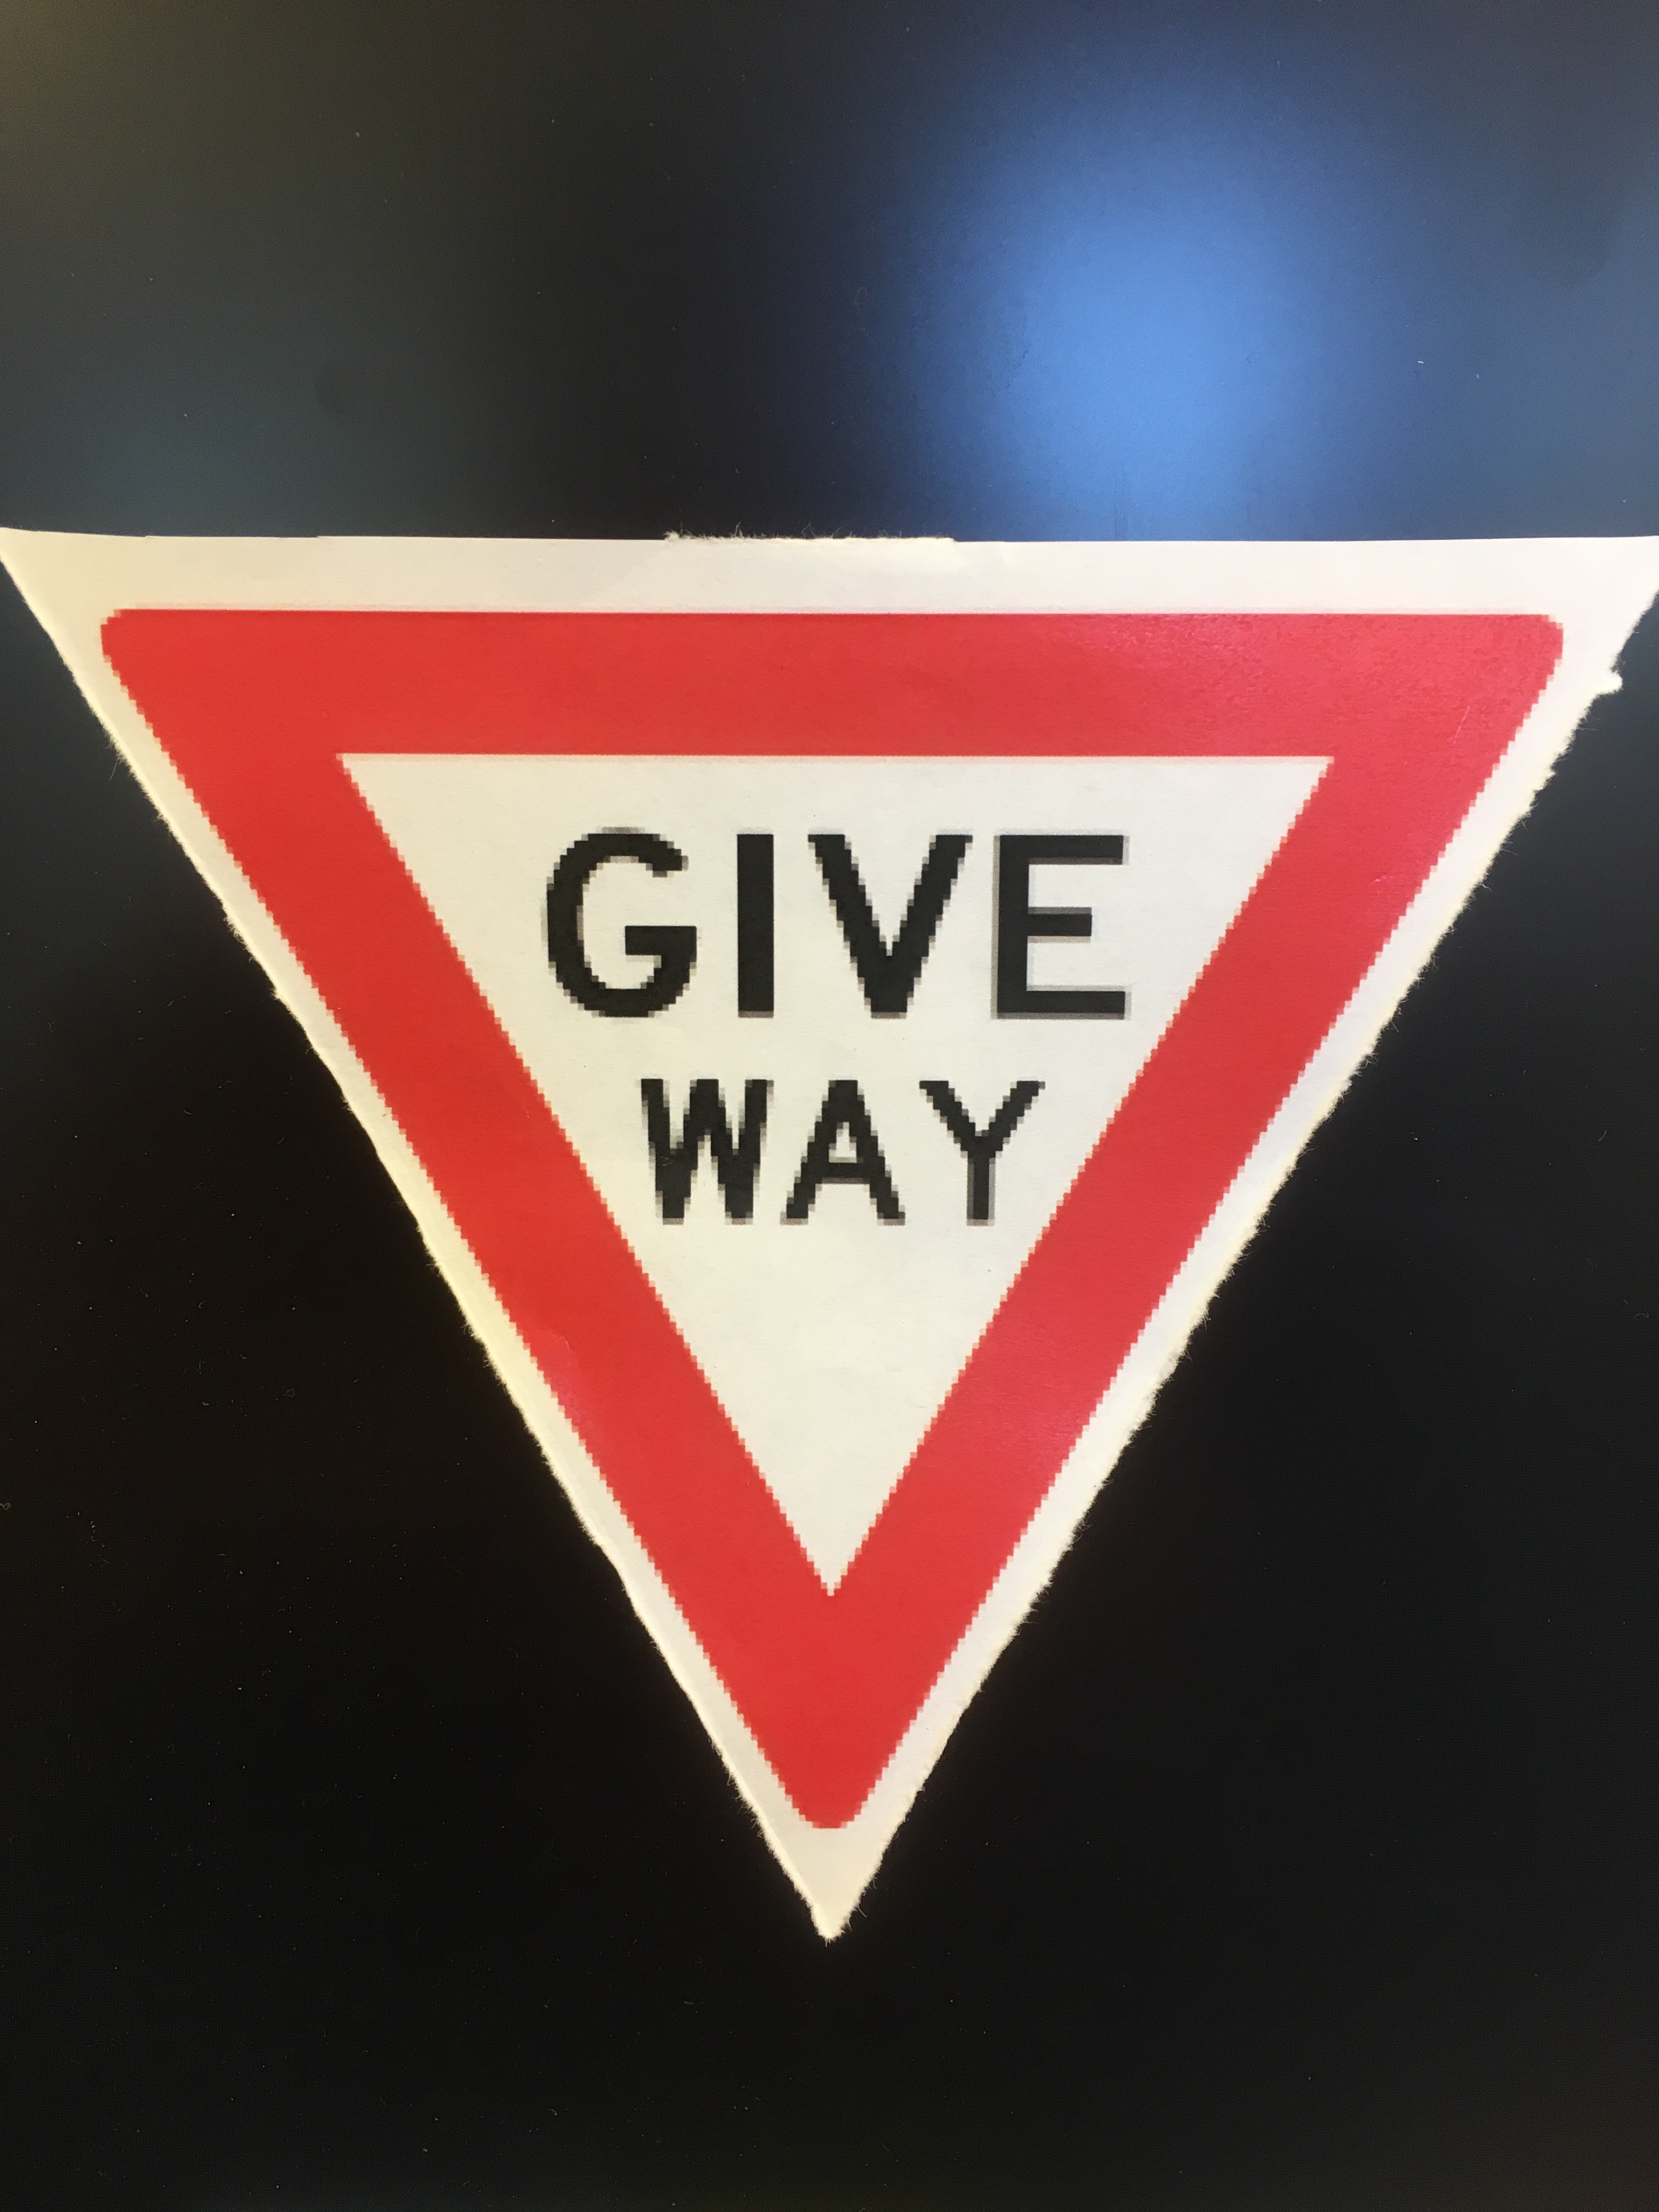giveway: (103, 601, 1547, 1831), (549, 449, 1223, 1817), (477, 1031, 1183, 1804)
